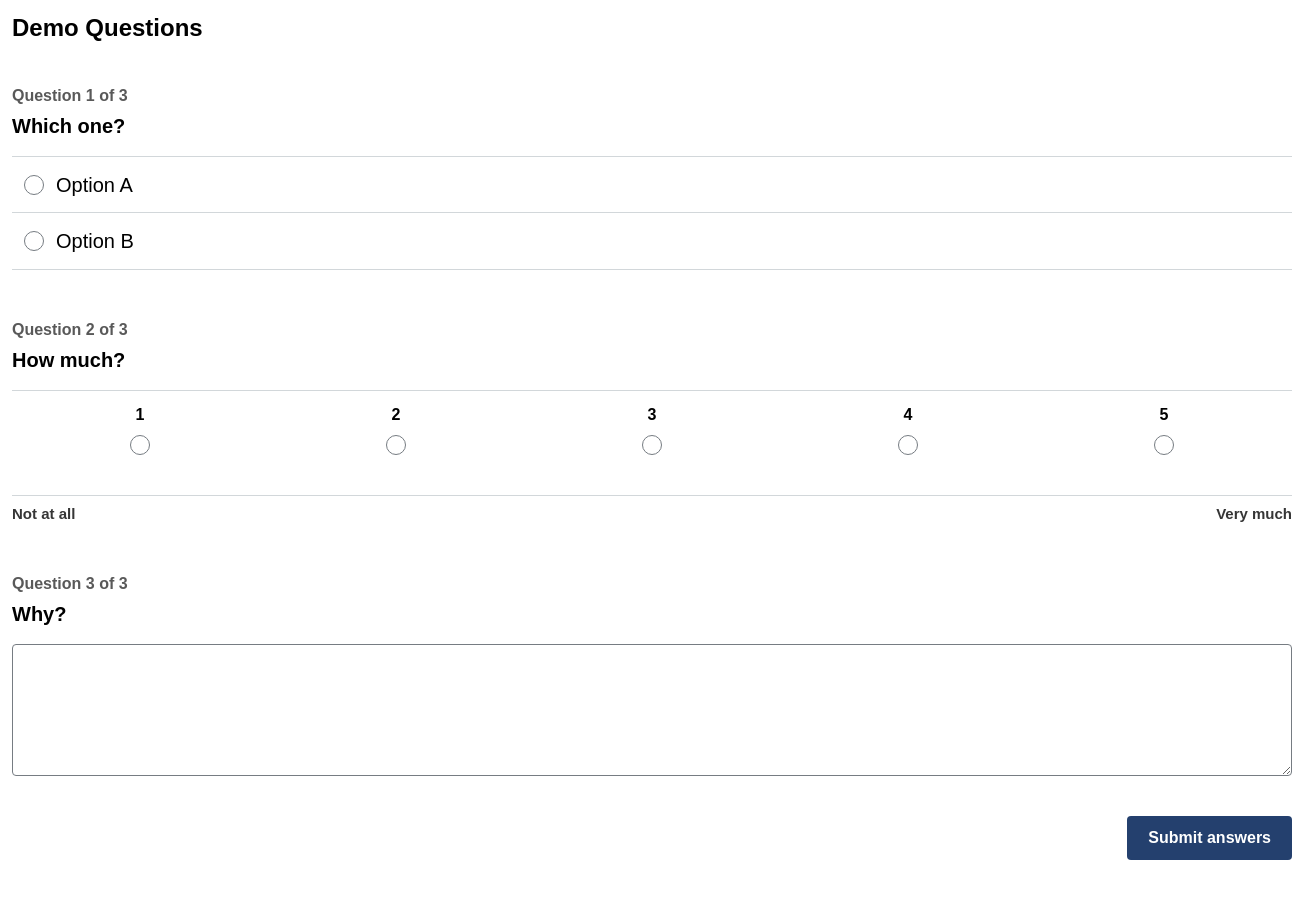
AssessmentForm (DESIGN.md 11.7) › renders choices as full-row 56 px labels with a native control, wash and a check when chosen, no bar (DR-022)
What coordinates should you click on to do the following:
click the text "Option B"
I would click on:
 (95, 241)
Its box is [56,230,134,252].
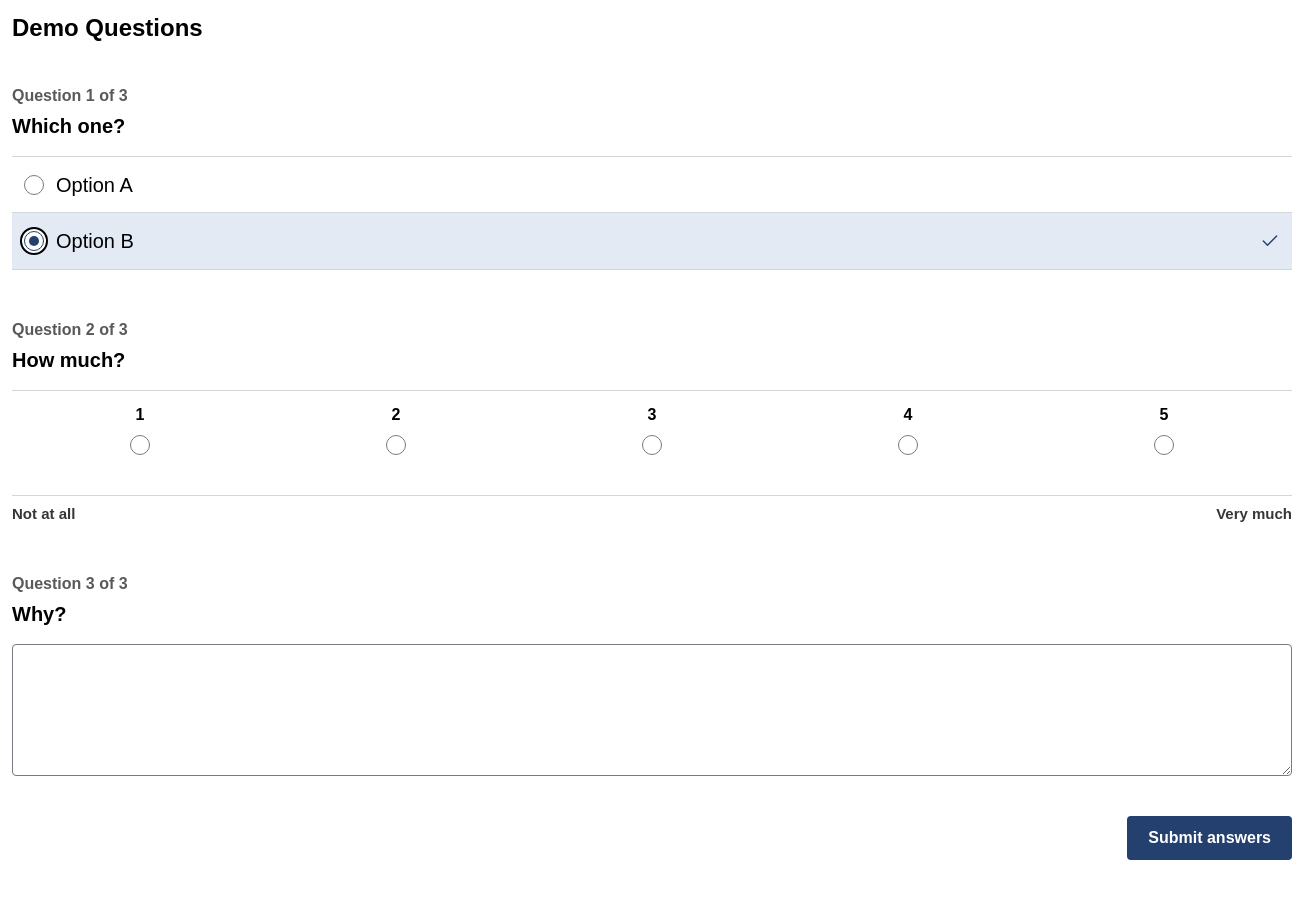
Expected: the radio button labelled "Option B" is checked, [24,231,44,251]
